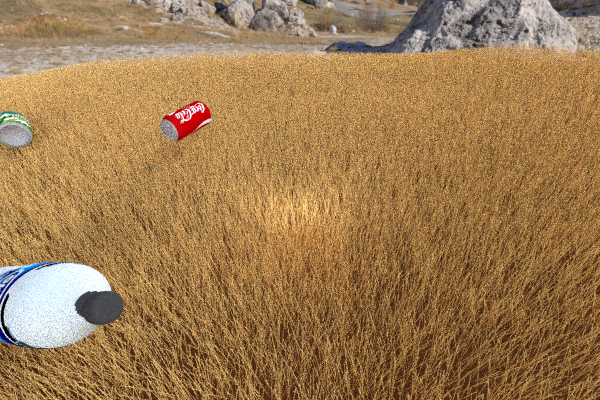bottle: (0, 261, 123, 349)
can: (159, 100, 211, 141), (0, 111, 33, 147)
